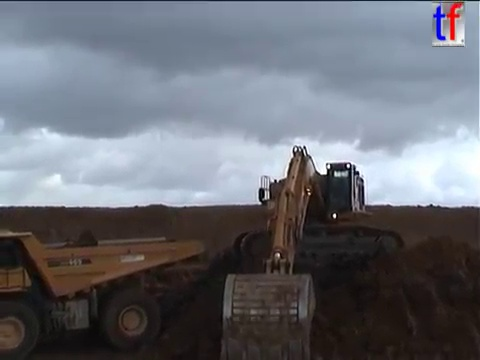excavator: (216, 142, 407, 360)
truck: (1, 226, 207, 360)
